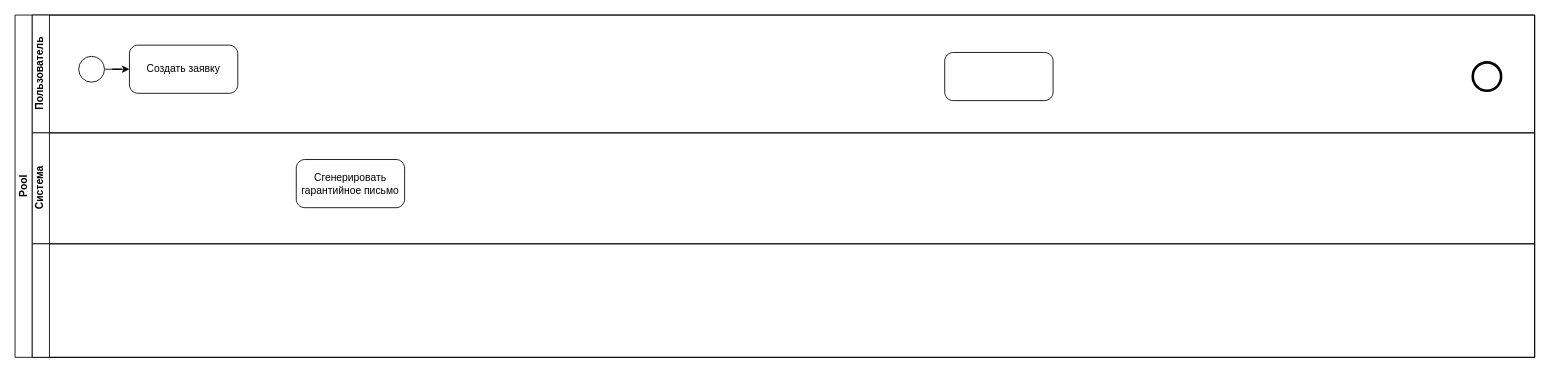
This 1550x372 diagram has some shape labels left out. Here are the shapes that lost their labels. From the top down, the centre of each, then its label:
the point at 998,76: Вывести средства
the point at 783,300: Lane 3
